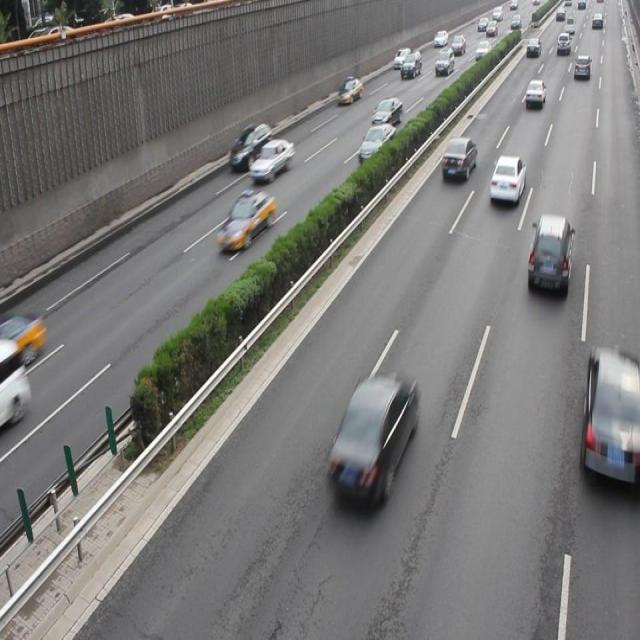car: (328, 369, 418, 513), (580, 345, 640, 494), (526, 212, 572, 294), (216, 192, 275, 251), (248, 138, 295, 182), (229, 123, 272, 170), (488, 156, 525, 202), (441, 138, 476, 182), (358, 122, 395, 162), (370, 96, 400, 124)
